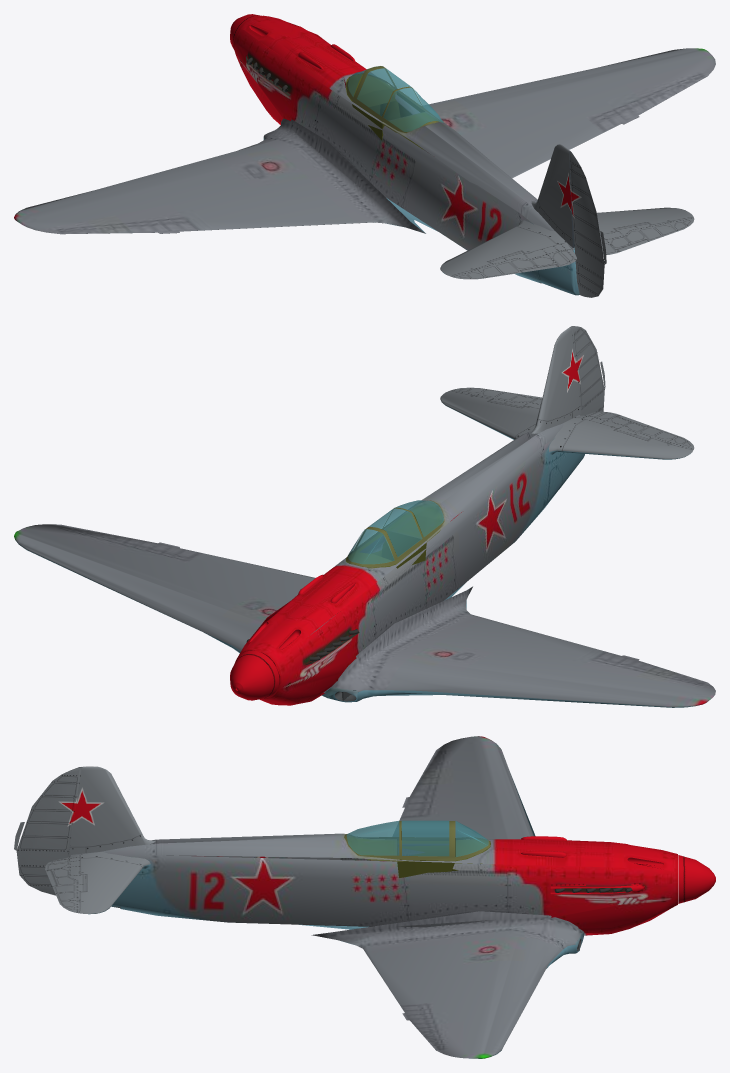
File: Yak3LOD0.glb
The picture shows the model from 3 angles, top to bottom: view 1: azimuth 30°, elevation 25°; view 2: azimuth 150°, elevation 25°; view 3: azimuth 270°, elevation 25°; orthographic projection. The views are drawn at different scales.
Parts seen in each view (by area): view 1: Plane01-FACES.001; view 2: Plane01-FACES.001; view 3: Plane01-FACES.001.
Boxes of the visible parts, bbox=[...] form: Plane01-FACES.001: bbox=[14, 14, 715, 297]; Plane01-FACES.001: bbox=[14, 326, 715, 707]; Plane01-FACES.001: bbox=[14, 736, 715, 1058].
Size of the model in its own units: 13.73 by 3.36 by 12.69.
13 materials, 11 textured.
